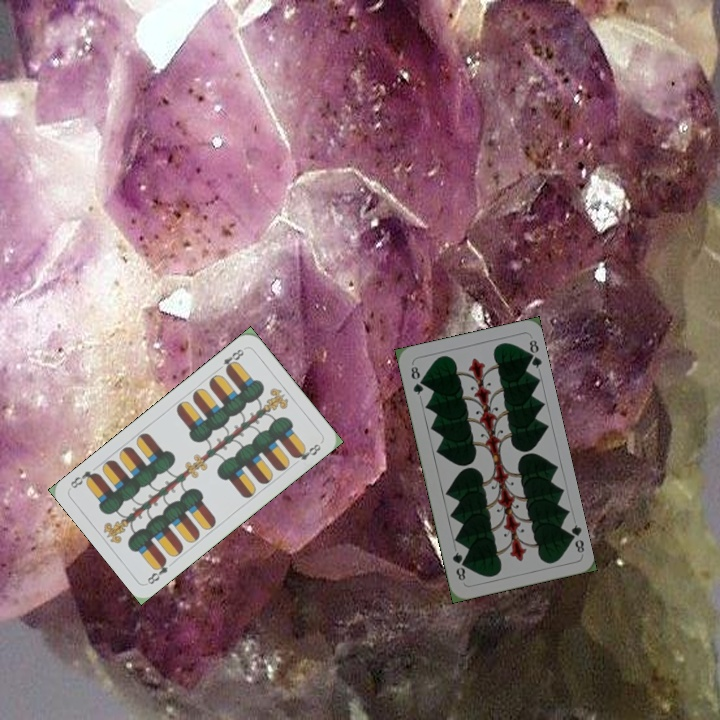E8: (213, 345, 247, 375), (143, 555, 170, 587)
G8: (563, 520, 587, 555), (407, 362, 426, 398)
